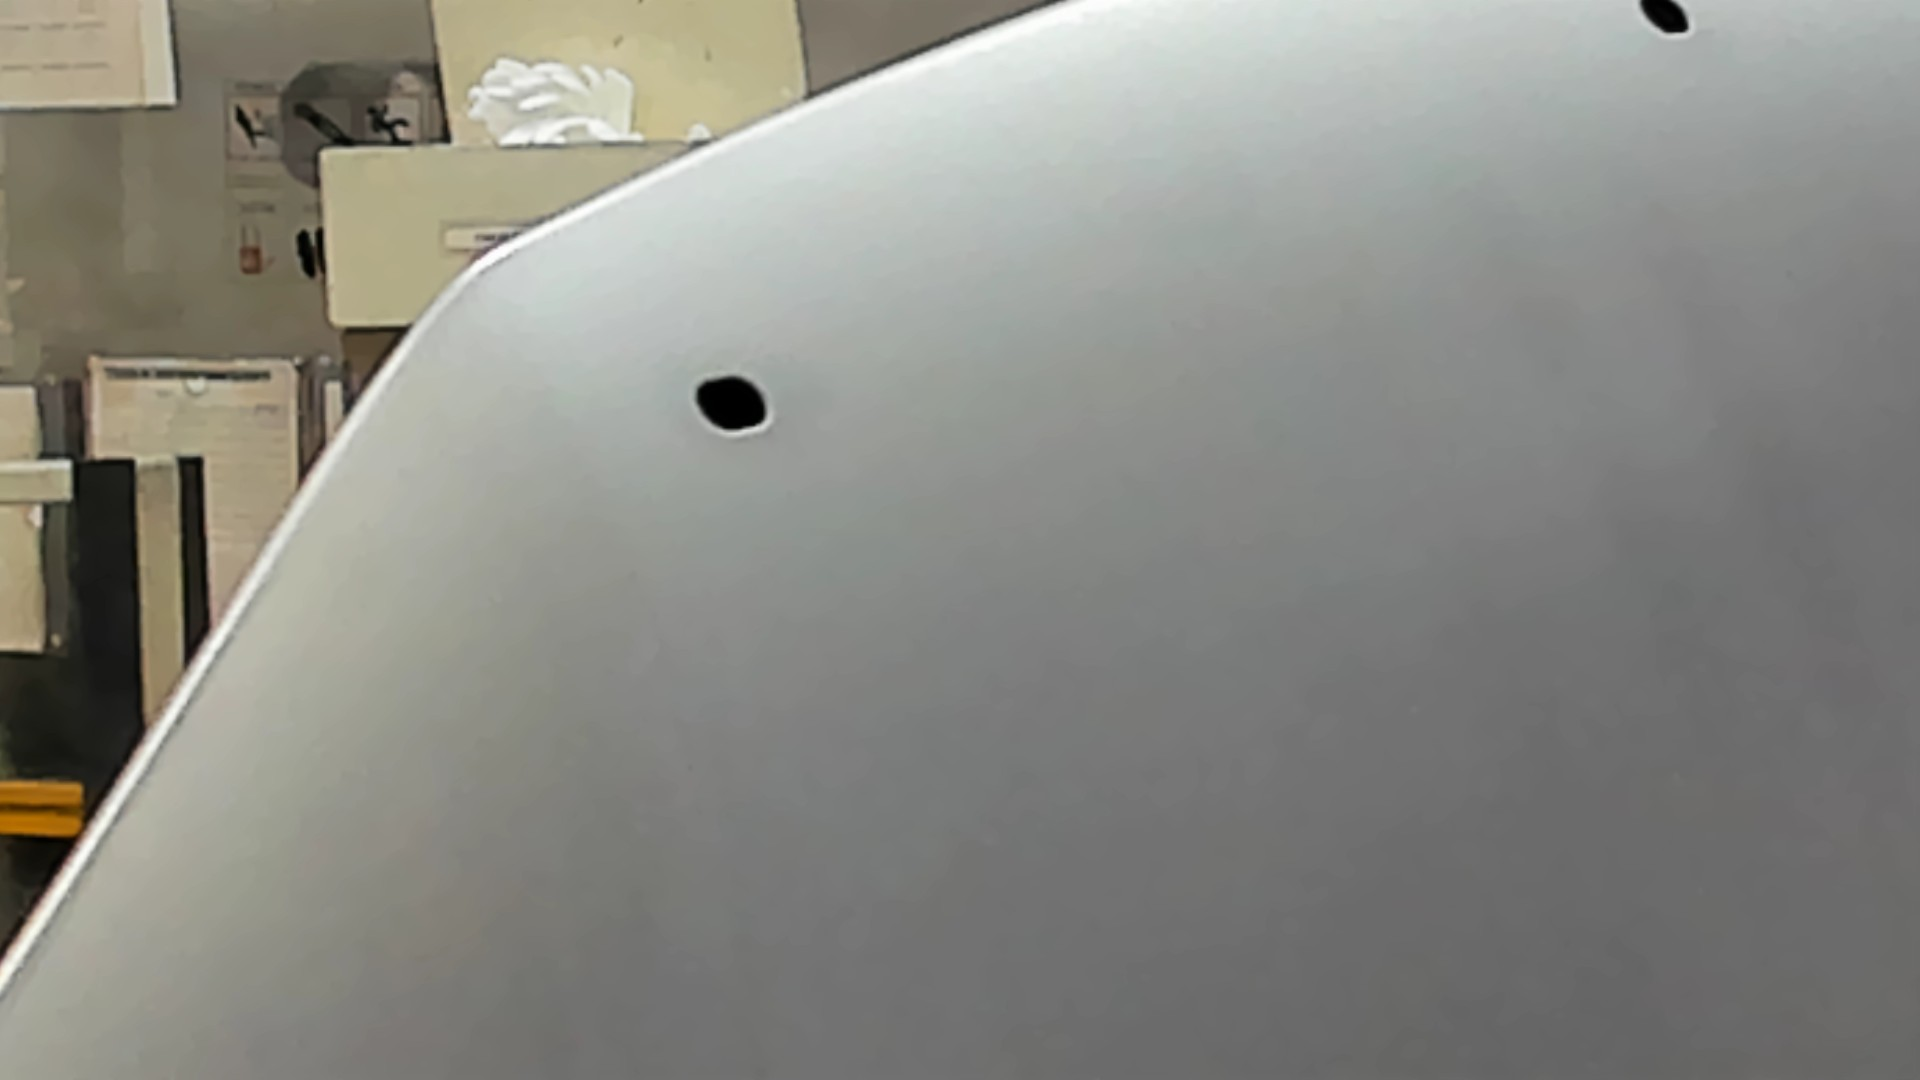Agujero: (688, 371, 774, 439), (1631, 1, 1698, 40)
